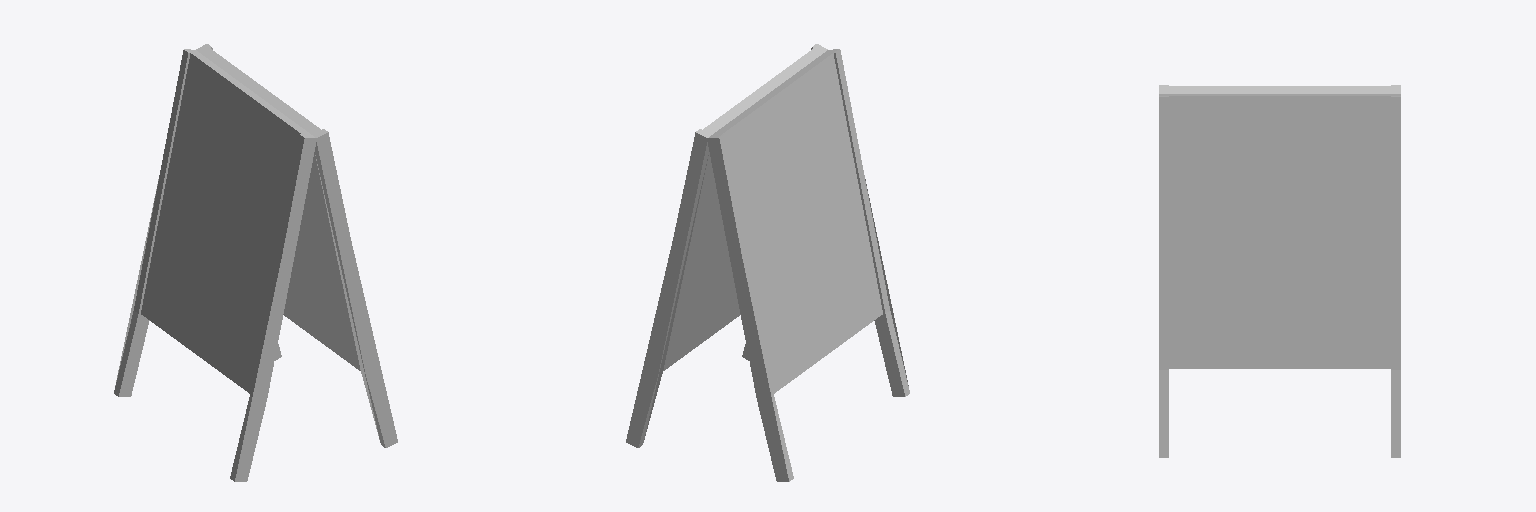
Rendered from sign.obj.
3 views of the same model, side by side, from view 1: azimuth 30°, elevation 25°; view 2: azimuth 150°, elevation 25°; view 3: azimuth 270°, elevation 25° (orthographic).
Visible parts, largest first — view 1: Cube; view 2: Cube; view 3: Cube.
Boxes of the visible parts, x1,y1,x2,y2 form: Cube: [114, 44, 397, 481]; Cube: [626, 44, 909, 481]; Cube: [1159, 85, 1400, 457].
Size of the model in its own units: 1.7 by 3.28 by 2.18.